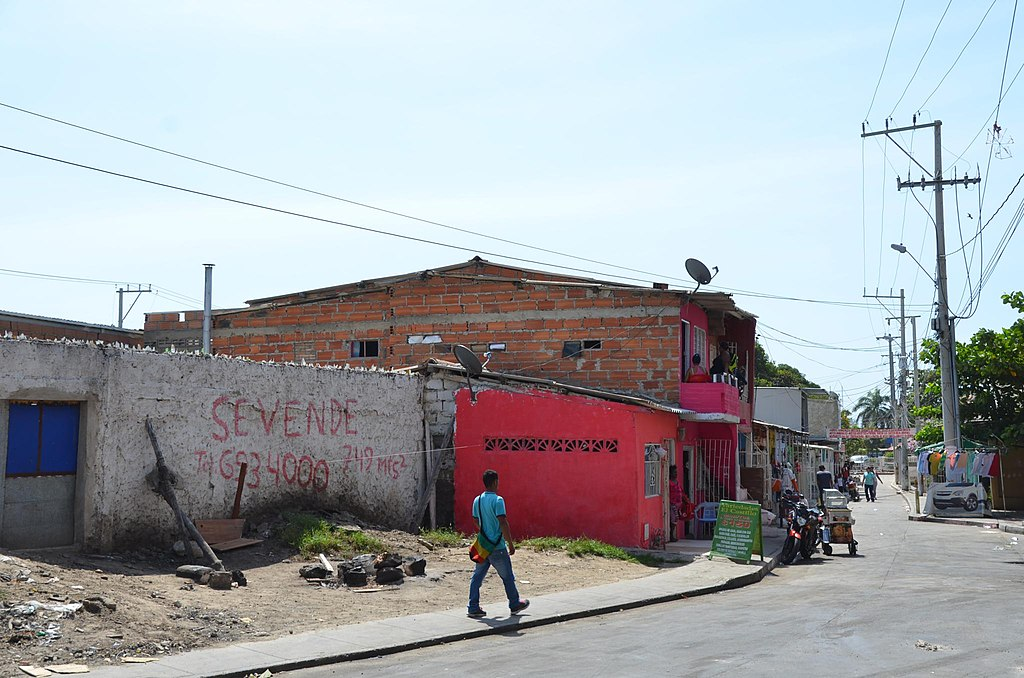House: (154, 262, 738, 546)
